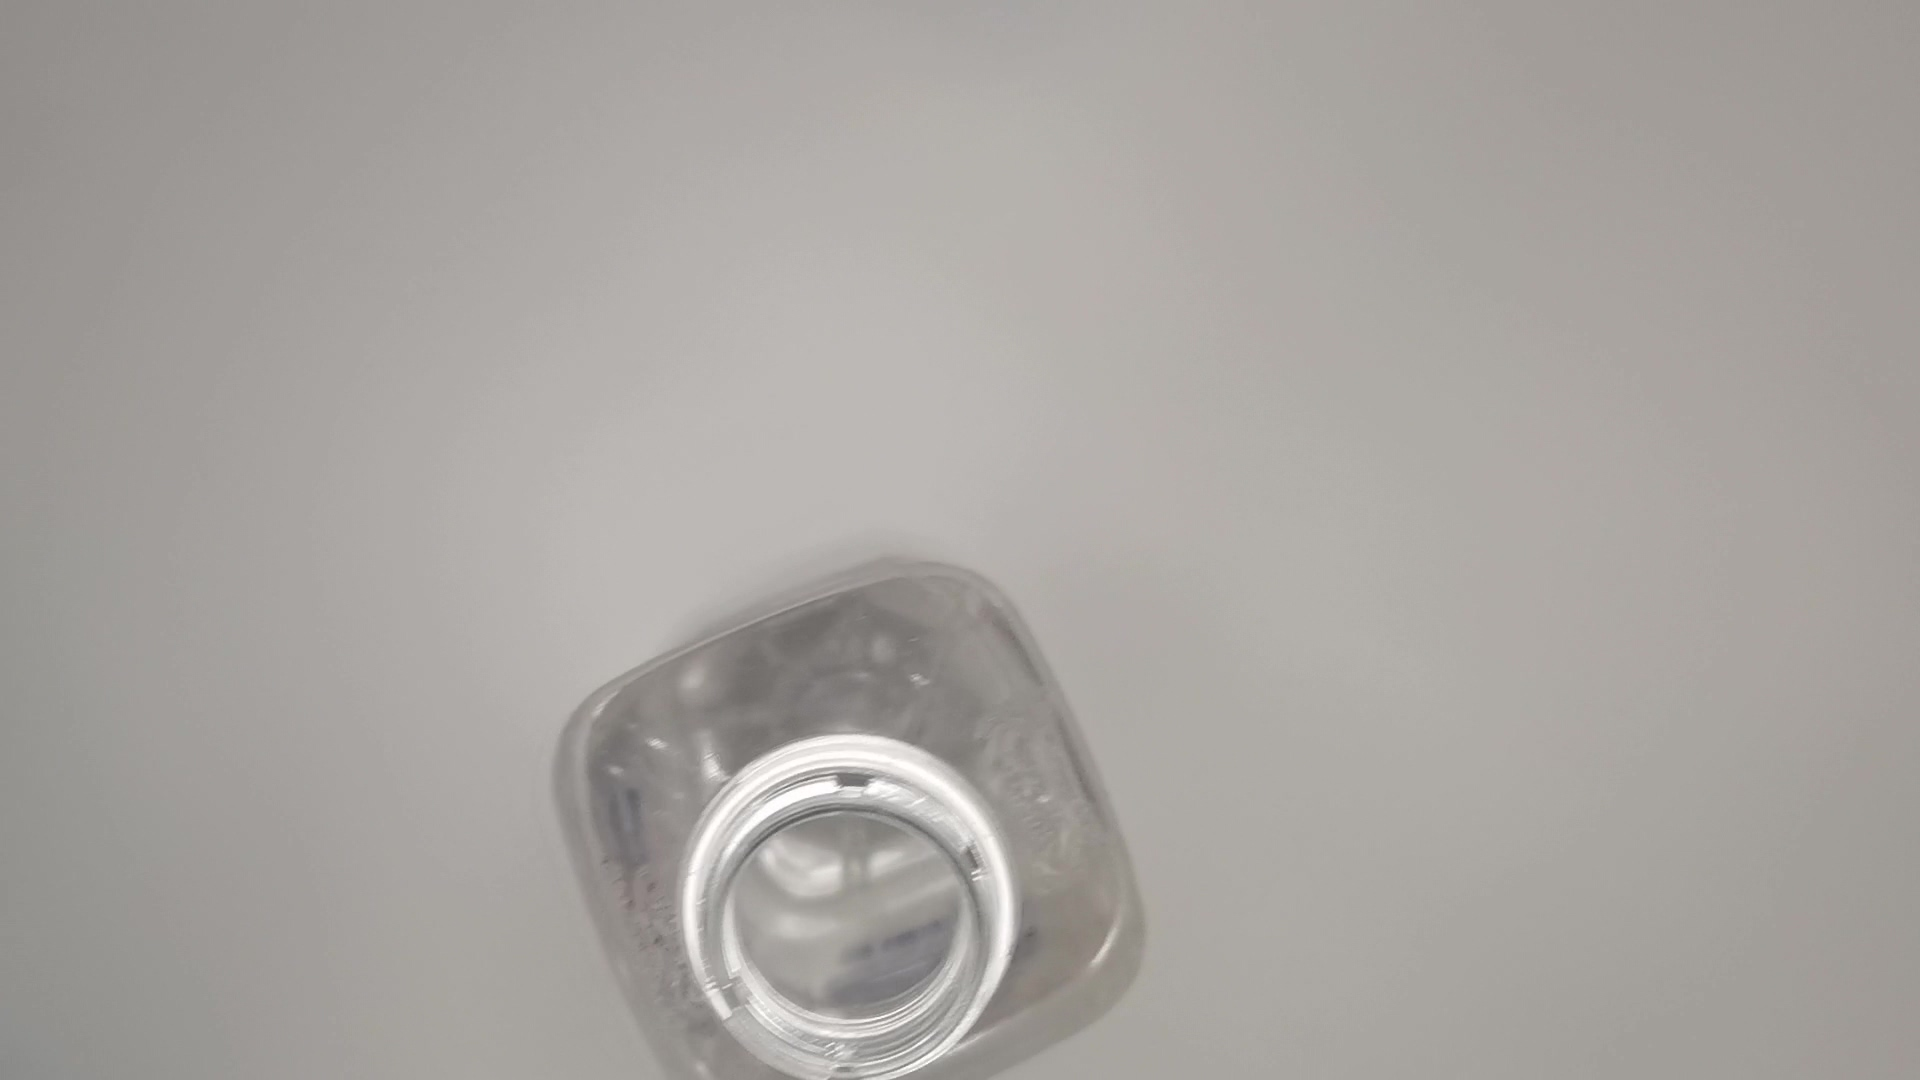bottle: (541, 550, 1159, 1080)
